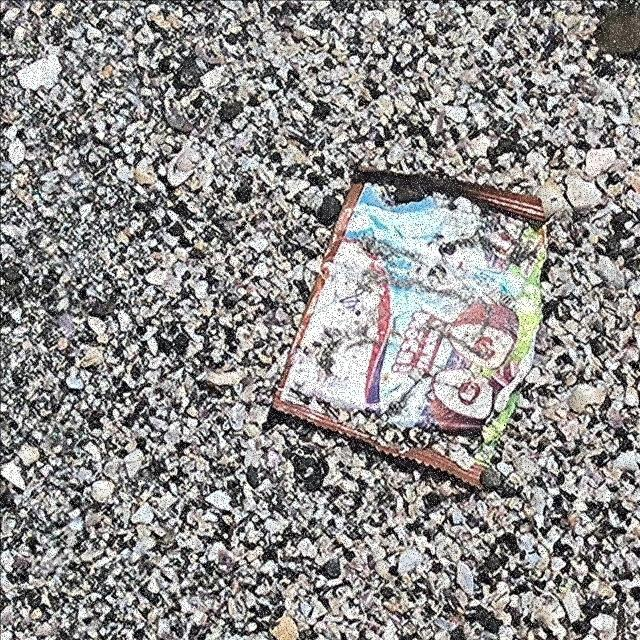plastic_waste: (270, 169, 547, 487)
